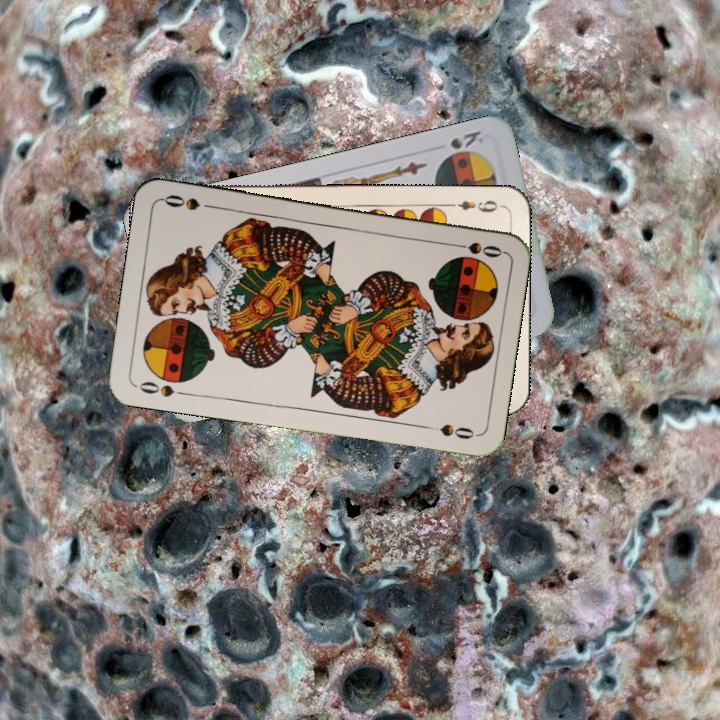E9: (445, 196, 504, 215)
SK: (446, 126, 486, 152)
SO: (446, 237, 505, 260), (132, 377, 191, 400)
